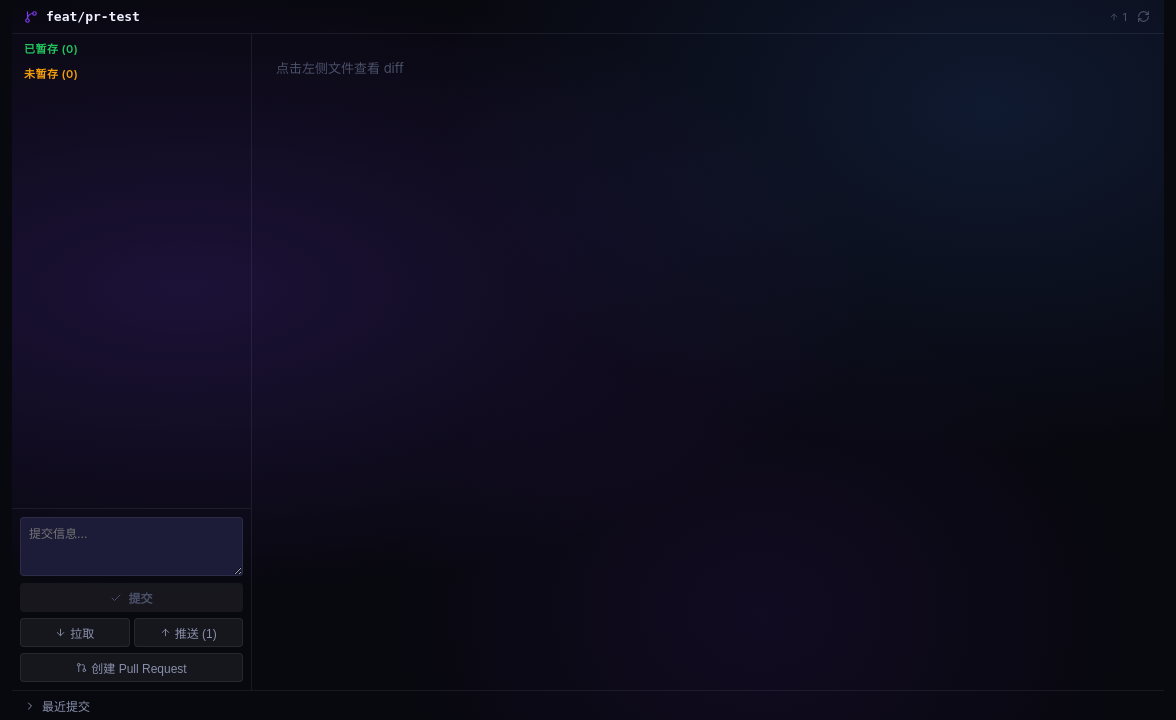
Scenario: GitPanel - PR 创建流程 › 点击"创建 Pull Request"展开 PR 表单
Click the button "创建 Pull Request": click(132, 668) [20,653,243,682]
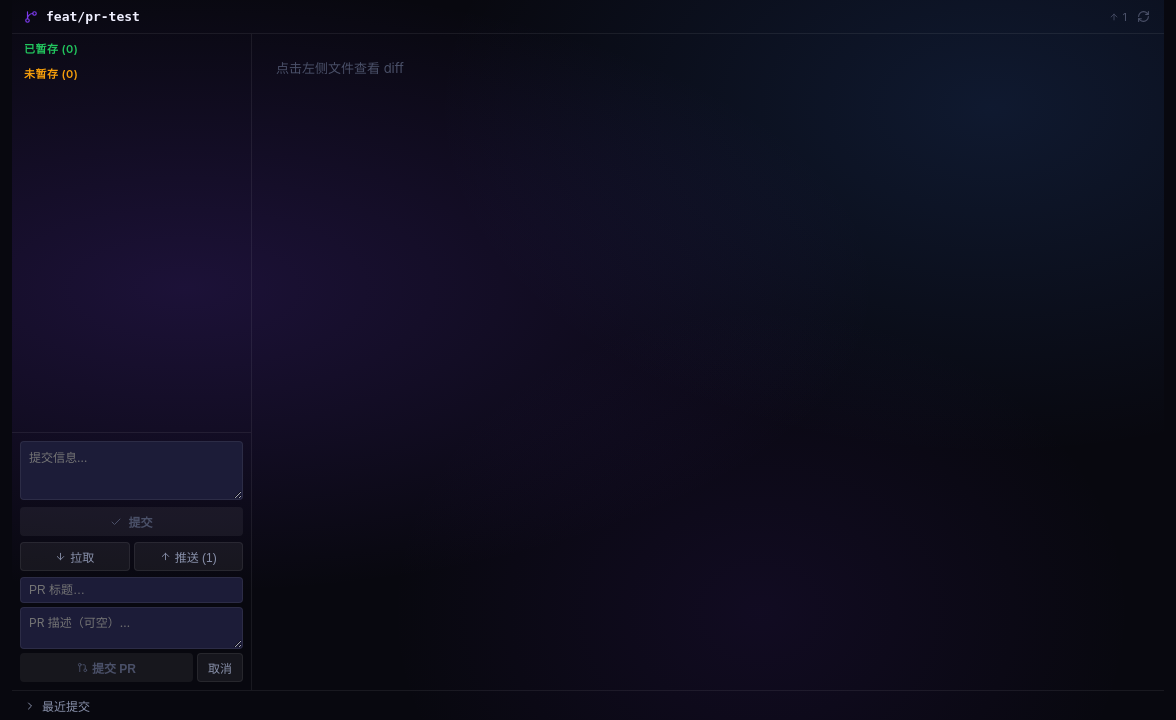
Now the field with placeholder "PR 标题…" is shown, box [20,577,243,603]
